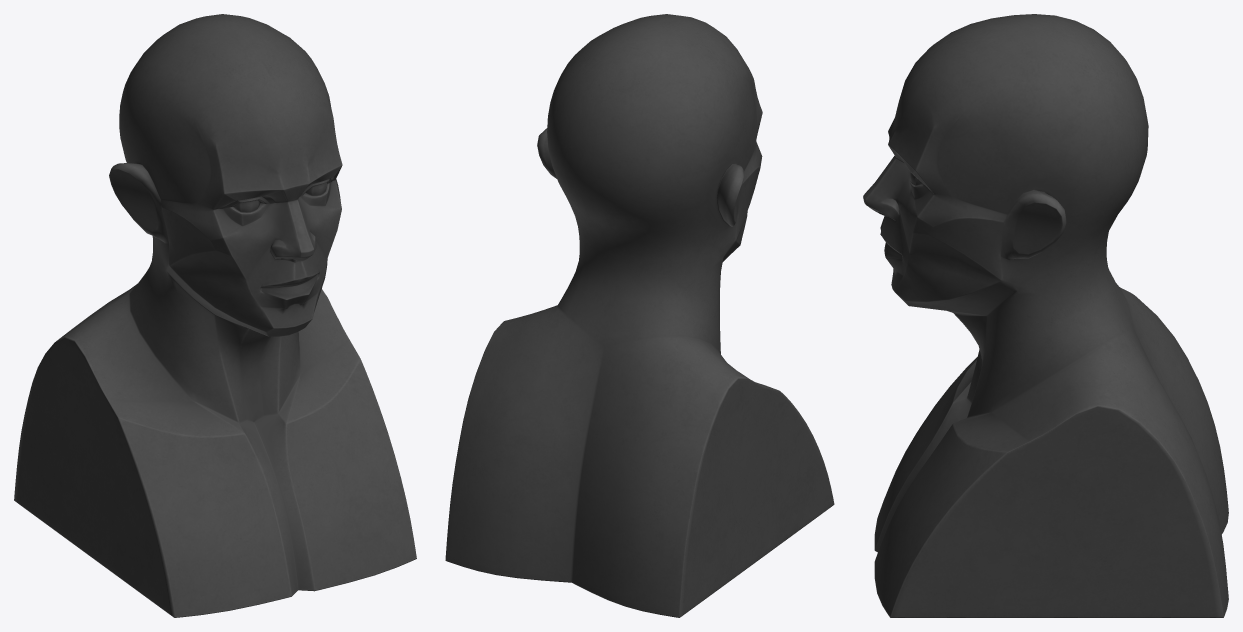
File: lowPolyHead.glb
3 renders of one model, left to right at view 1: azimuth 30°, elevation 25°; view 2: azimuth 150°, elevation 25°; view 3: azimuth 270°, elevation 25°, orthographic. The views are drawn at different scales.
Visible parts, largest first — view 1: bust; view 2: bust; view 3: bust.
Part boxes in pixels (x1,y1,x2,y2): bust: (14, 14, 416, 617); bust: (445, 14, 834, 617); bust: (863, 14, 1228, 617).
Bounding box in the file's own units: 0.2327 × 0.47 × 0.292.
Materials: 1 (1 with a texture image).
